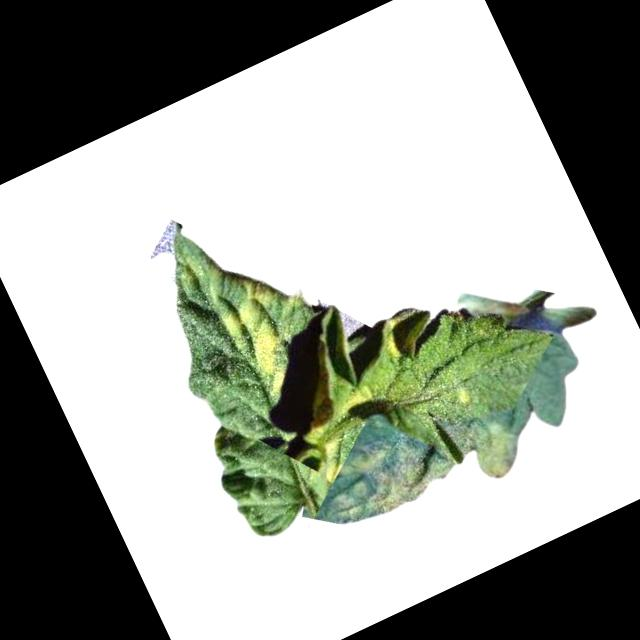Leaf_Mold: (316, 390, 528, 546), (204, 270, 313, 402), (283, 358, 393, 484), (372, 298, 445, 366), (447, 375, 478, 409)
